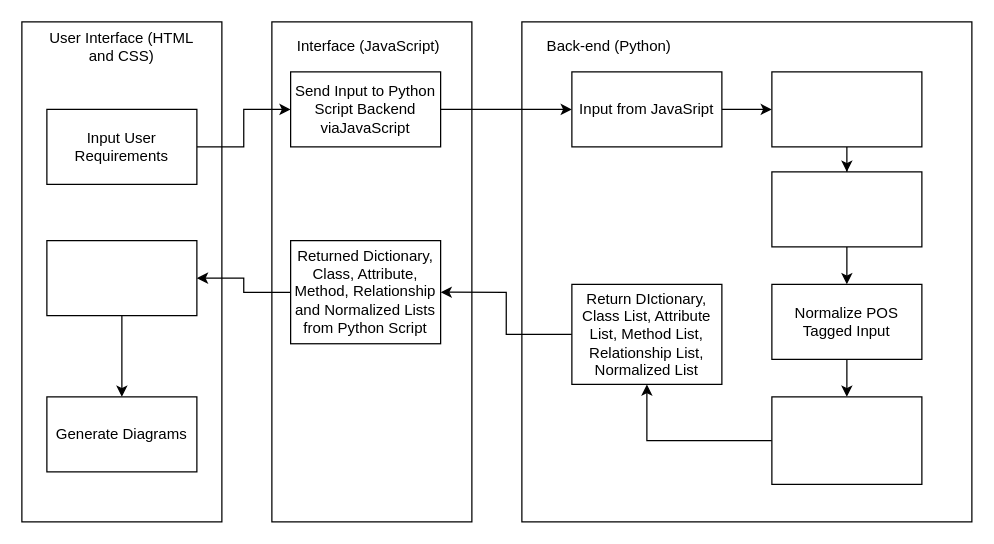
The diagram is 994 pixels wide and 544 high, and some of its shapes have lost their labels. The centre of each missing label's shape, as x and y in pixels:
Generate Dictionary, Class List, Attribute List, Method List, Relationship List: point 846,440
POS Tag Input: point 846,209
Tokenize Input: point 846,109
User Selects Relationships not generated by the program: point 121,277
